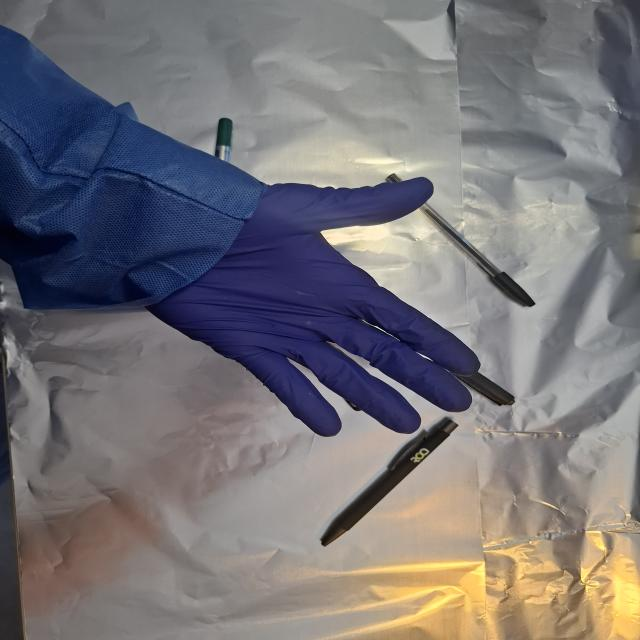glove_on: (147, 175, 484, 439)
